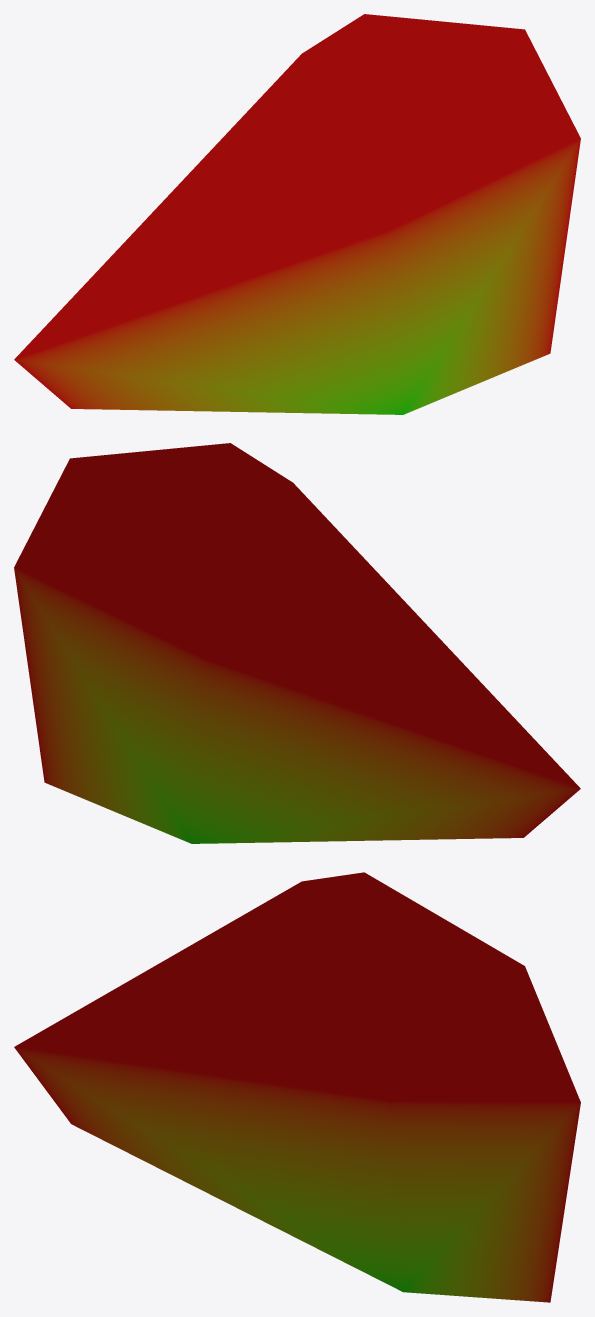
Rendered from Raspberry_LOD4_Var3_wf0oefeja.fbx.
The picture shows the model from 3 angles, top to bottom: view 1: azimuth 30°, elevation 25°; view 2: azimuth 150°, elevation 25°; view 3: azimuth 330°, elevation 25°; orthographic projection.
Visible parts, largest first — view 1: _vtrg_Var3_LOD4; view 2: _vtrg_Var3_LOD4; view 3: _vtrg_Var3_LOD4.
Boxes of the visible parts, x1=… form: _vtrg_Var3_LOD4: x1=14, y1=14, x2=580, y2=414; _vtrg_Var3_LOD4: x1=14, y1=443, x2=580, y2=843; _vtrg_Var3_LOD4: x1=14, y1=872, x2=580, y2=1302.
Bounding box in the file's own units: 117 × 81.01 × 9.66e-06.
